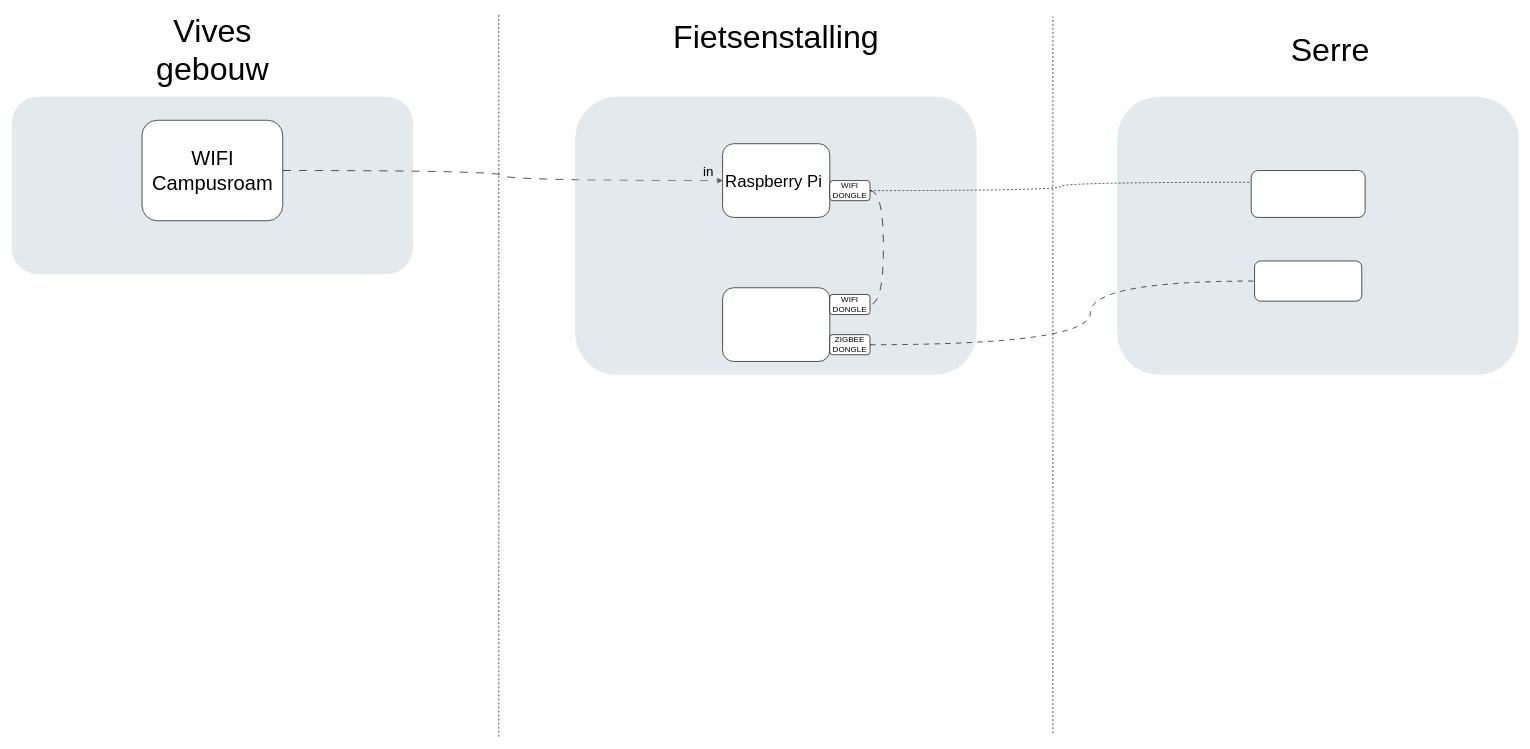
This 1530x749 diagram has some shape labels left out. The centre of each missing label's shape, as x and y in pixels:
Mini PC: pixel 776 324
WiFi ESP (voor motoren): pixel 1308 193
Zigbee Sensoren: pixel 1308 280
